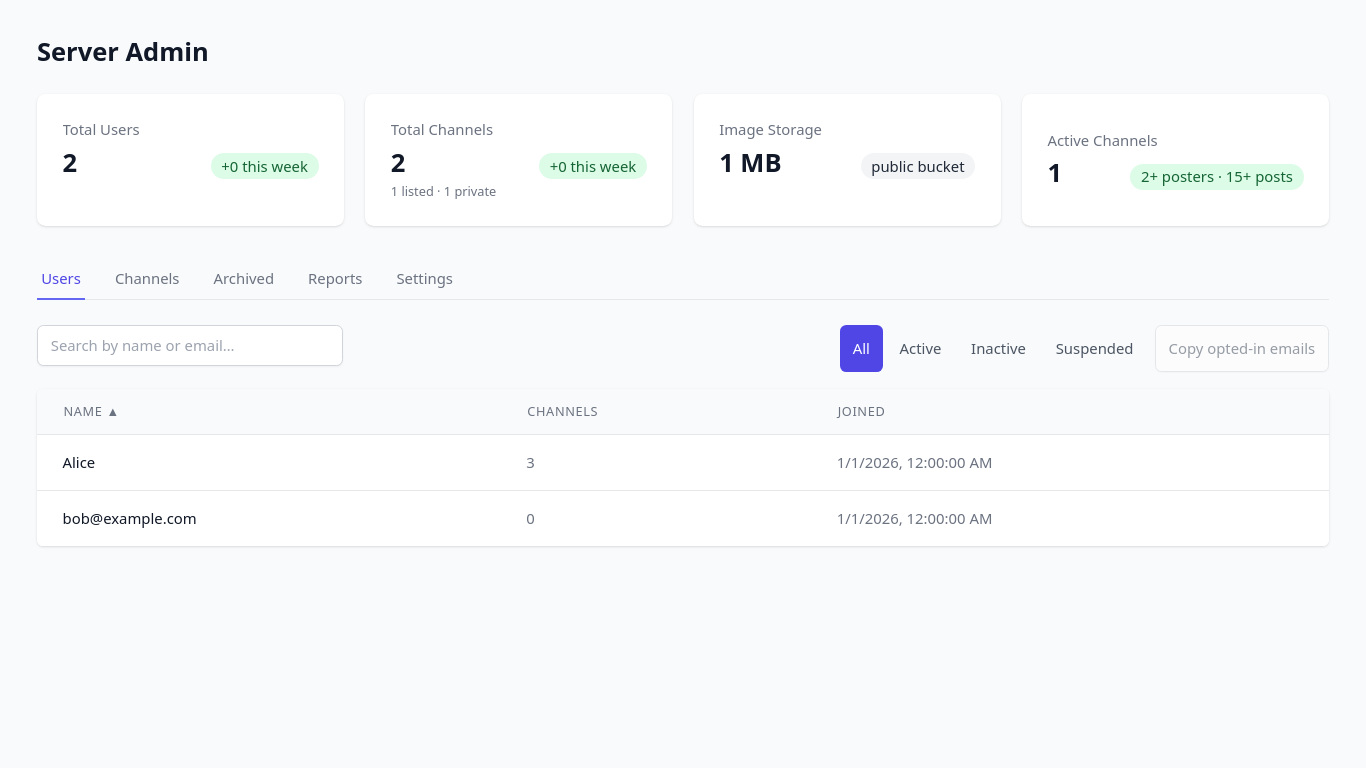
AdminView › clicking the Active Channels card filters the channels table
Expected: the text "Active Channels" is shown, x1=1047 y1=130 x2=1158 y2=150
Click the button with aria-label "Active Channels: 1. Show channels with real activity" at (1103, 140), box x1=1022 y1=94 x2=1329 y2=226
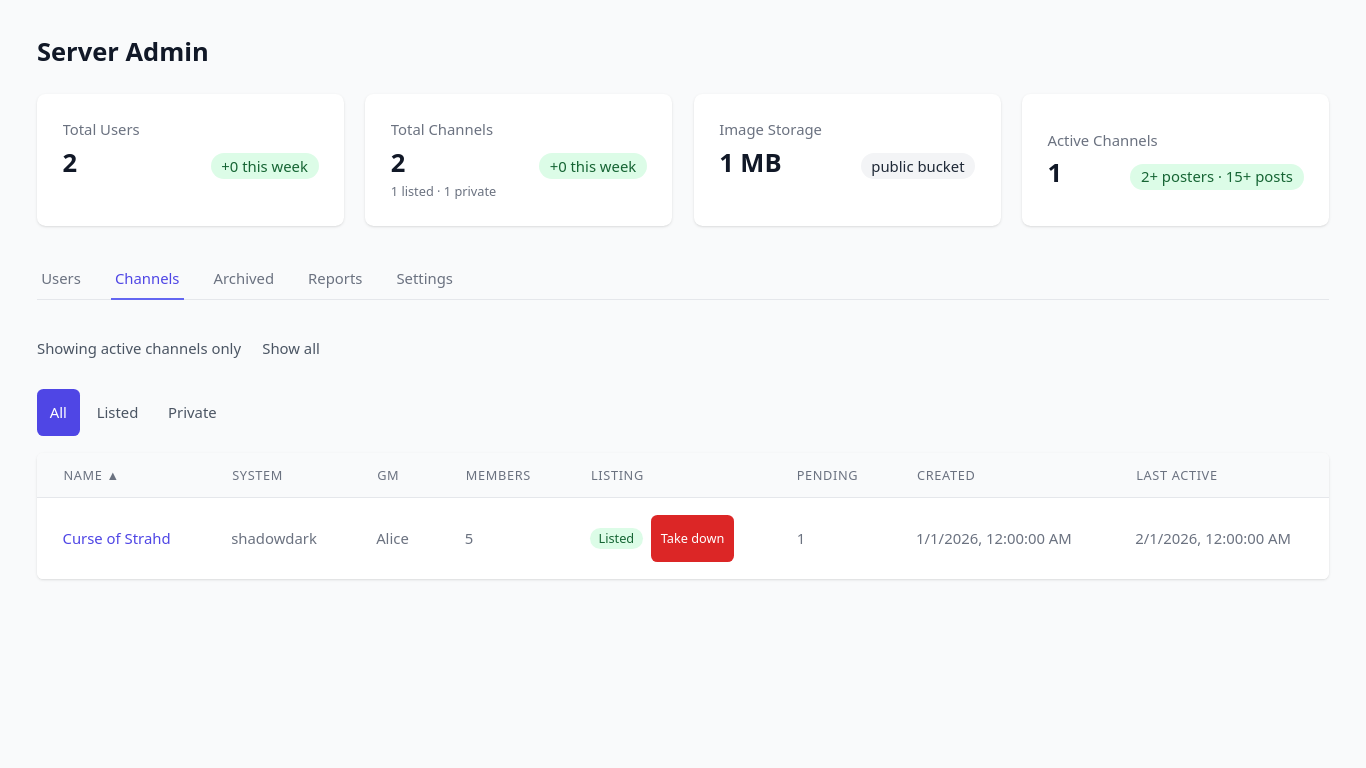
Now the link "Curse of Strahd" is shown, box x1=62 y1=528 x2=171 y2=548
Now the text "Showing active channels only" is shown, box x1=37 y1=338 x2=241 y2=359
